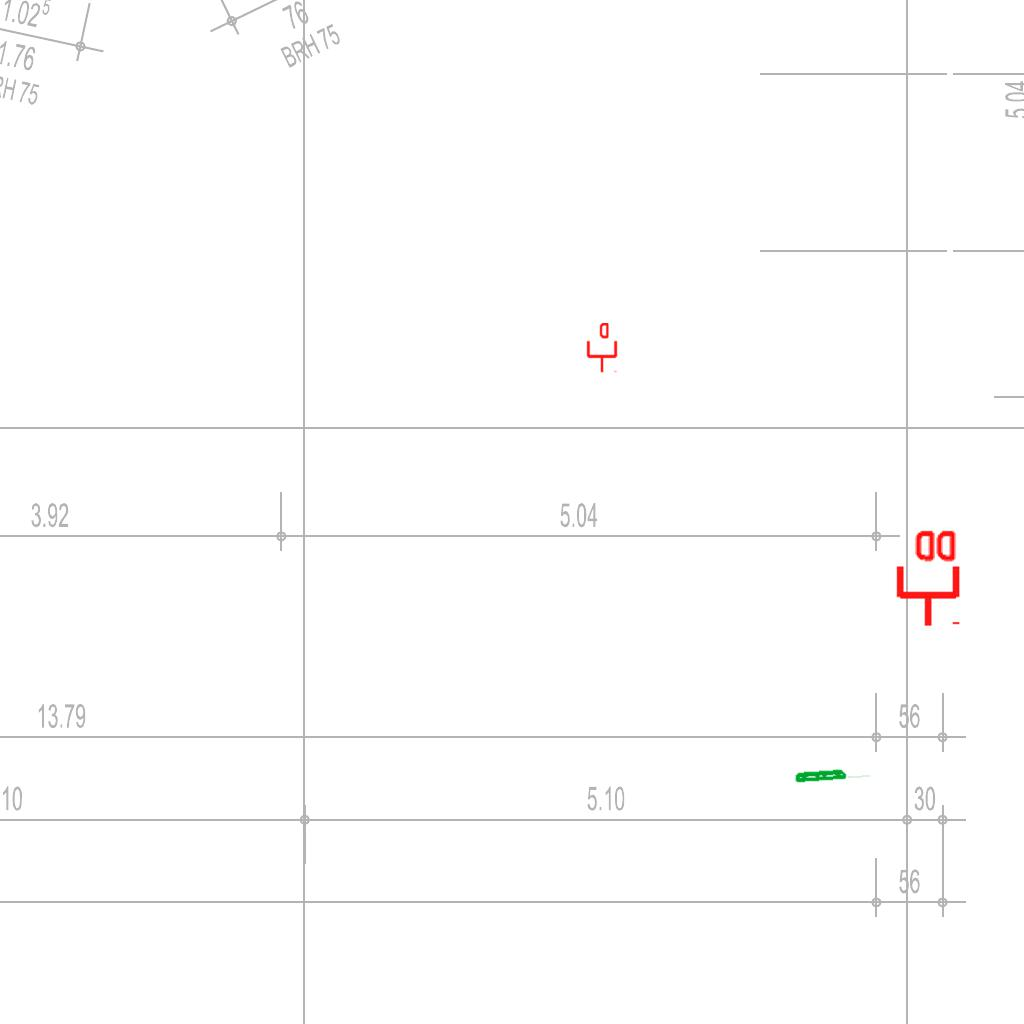Datenanschluss_einfach: (585, 323, 619, 373)
Datenanschluss_zweifach: (892, 526, 961, 629)
Sicherheitsleuchte_Wandeinbau: (793, 765, 873, 784)
